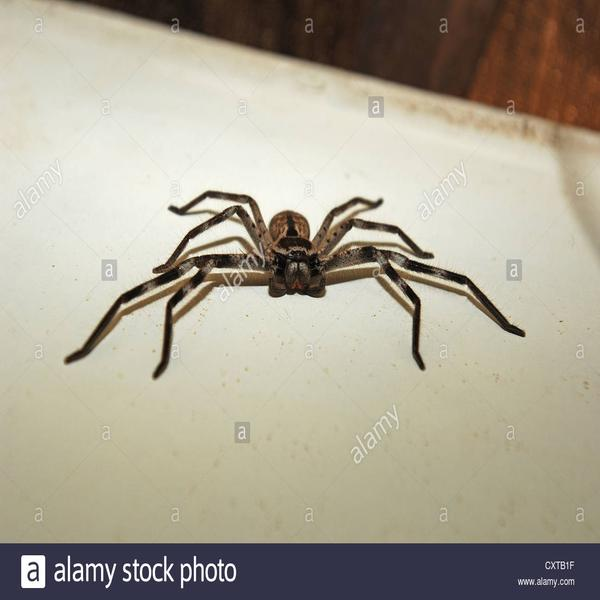Huntsman Spider: (73, 185, 526, 375)
